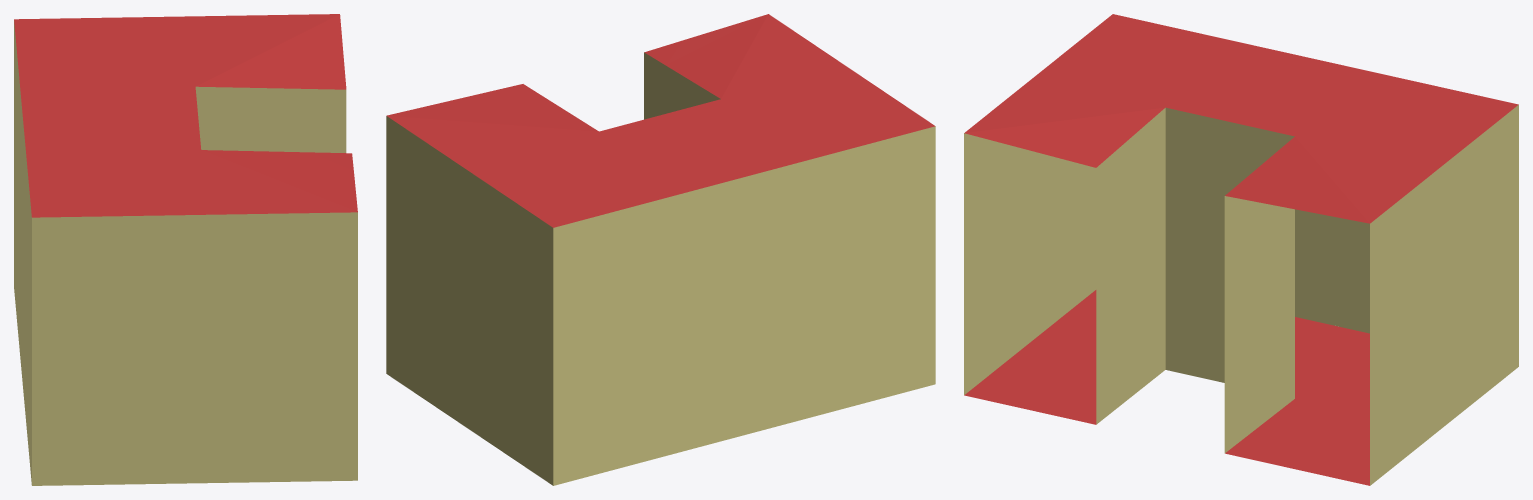
3 views of the same model, side by side, from view 1: azimuth 30°, elevation 25°; view 2: azimuth 150°, elevation 25°; view 3: azimuth 270°, elevation 25° (orthographic). The views are drawn at different scales.
Visible parts, largest first — view 1: group_4, group_3; view 2: group_4, group_3; view 3: group_4, group_3, group_5.
Boxes of the visible parts, x1,y1,x2,y2 form: group_4: (14, 21, 357, 485); group_3: (14, 14, 357, 217); group_4: (386, 52, 935, 485); group_3: (386, 14, 935, 227); group_4: (964, 105, 1518, 485); group_3: (964, 14, 1518, 223); group_5: (964, 290, 1369, 485).
Bounding box in the file's own units: 15.55 × 17.39 × 9.07.
